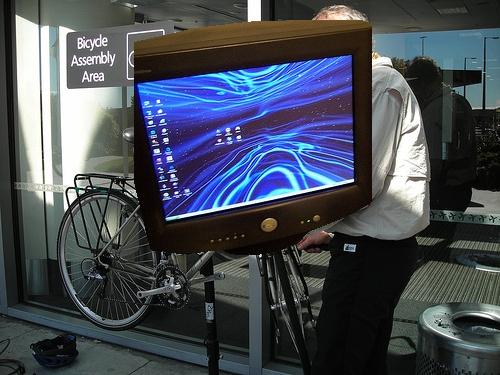tampered: (135, 21, 372, 255)
